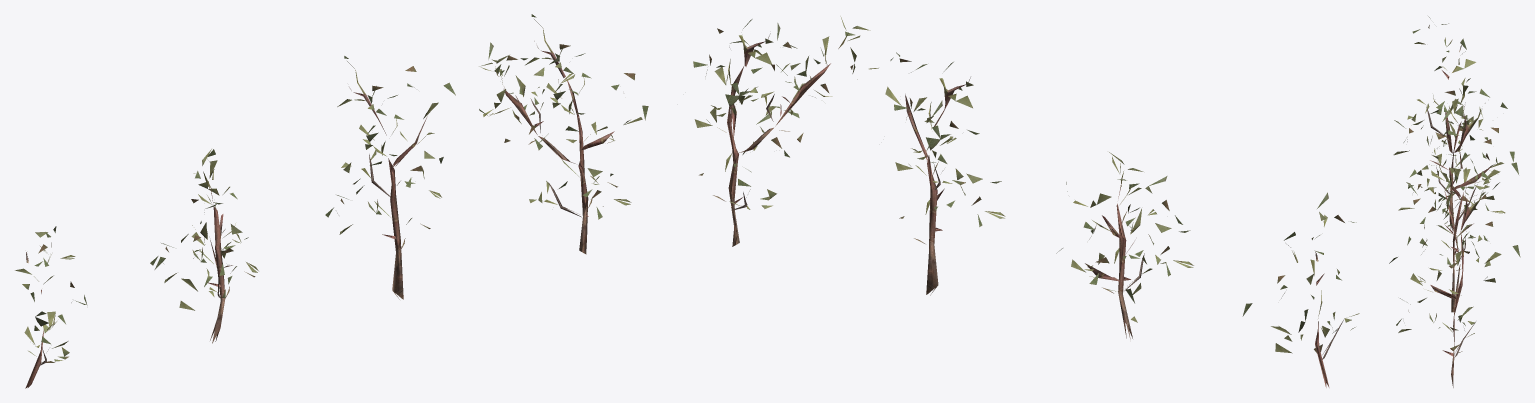
The model's file is shrub_04_lo.glb.
The picture shows the model from 3 angles, left to right: view 1: azimuth 30°, elevation 25°; view 2: azimuth 150°, elevation 25°; view 3: azimuth 270°, elevation 25°; orthographic projection. The views are drawn at different scales.
Parts seen in each view (by area): view 1: shrub_04_lo; view 2: shrub_04_lo; view 3: shrub_04_lo.
Boxes of the visible parts, <box> form: shrub_04_lo: <box>15,14,648,388</box>; shrub_04_lo: <box>693,16,1359,387</box>; shrub_04_lo: <box>1389,16,1520,387</box>.
Bounding box in the file's own units: 0.5595 × 0.2136 × 0.123.
Materials: 1 (1 with a texture image).
